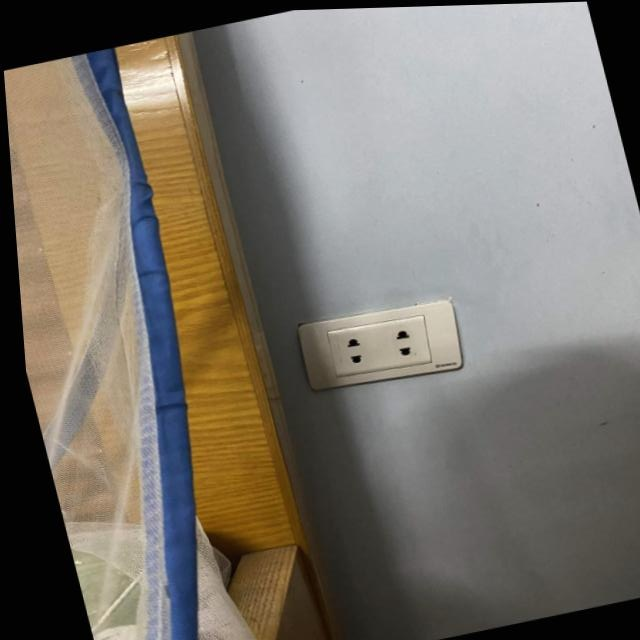outlet: (293, 291, 472, 400)
